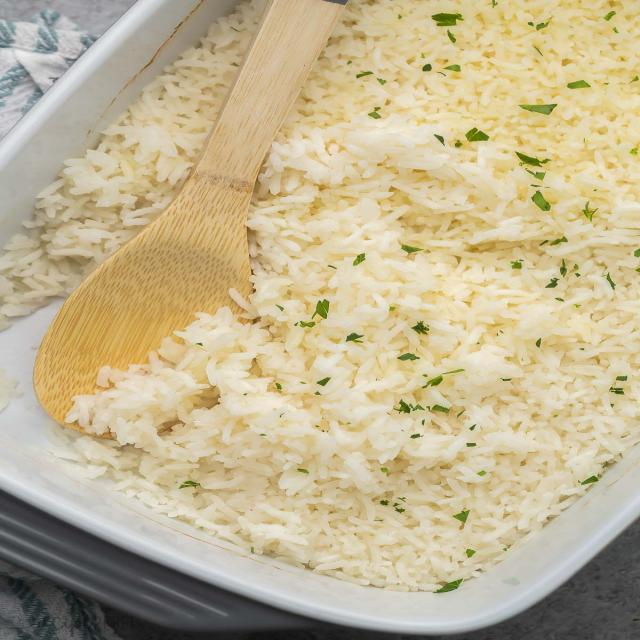rice: (4, 0, 634, 593)
